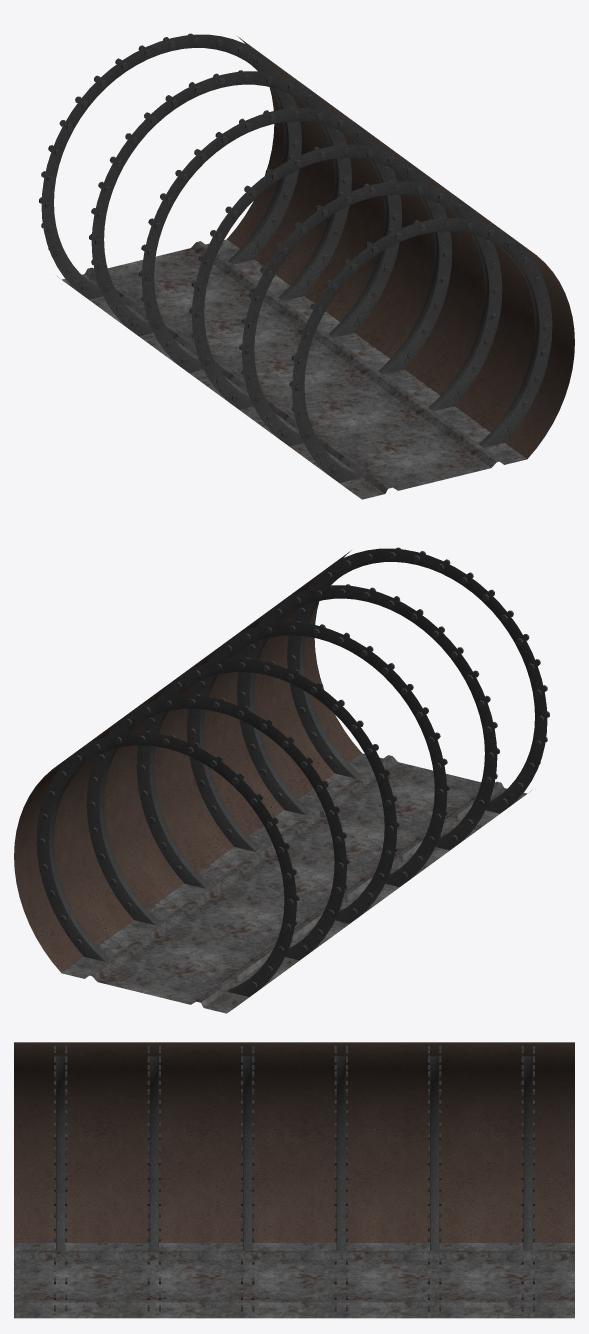
The picture shows the model from 3 angles, top to bottom: view 1: azimuth 30°, elevation 25°; view 2: azimuth 150°, elevation 25°; view 3: azimuth 270°, elevation 25°; orthographic projection. The views are drawn at different scales.
Parts seen in each view (by area): view 1: tunnel_1; view 2: tunnel_1; view 3: tunnel_1.
Part boxes in pixels (box(x1,y1,x2,y2)): tunnel_1: box(39, 33, 574, 499); tunnel_1: box(14, 547, 549, 1013); tunnel_1: box(14, 1042, 574, 1318).
Bounding box in the file's own units: 3 × 2.7 × 6.
Materials: 3 (3 with a texture image).
